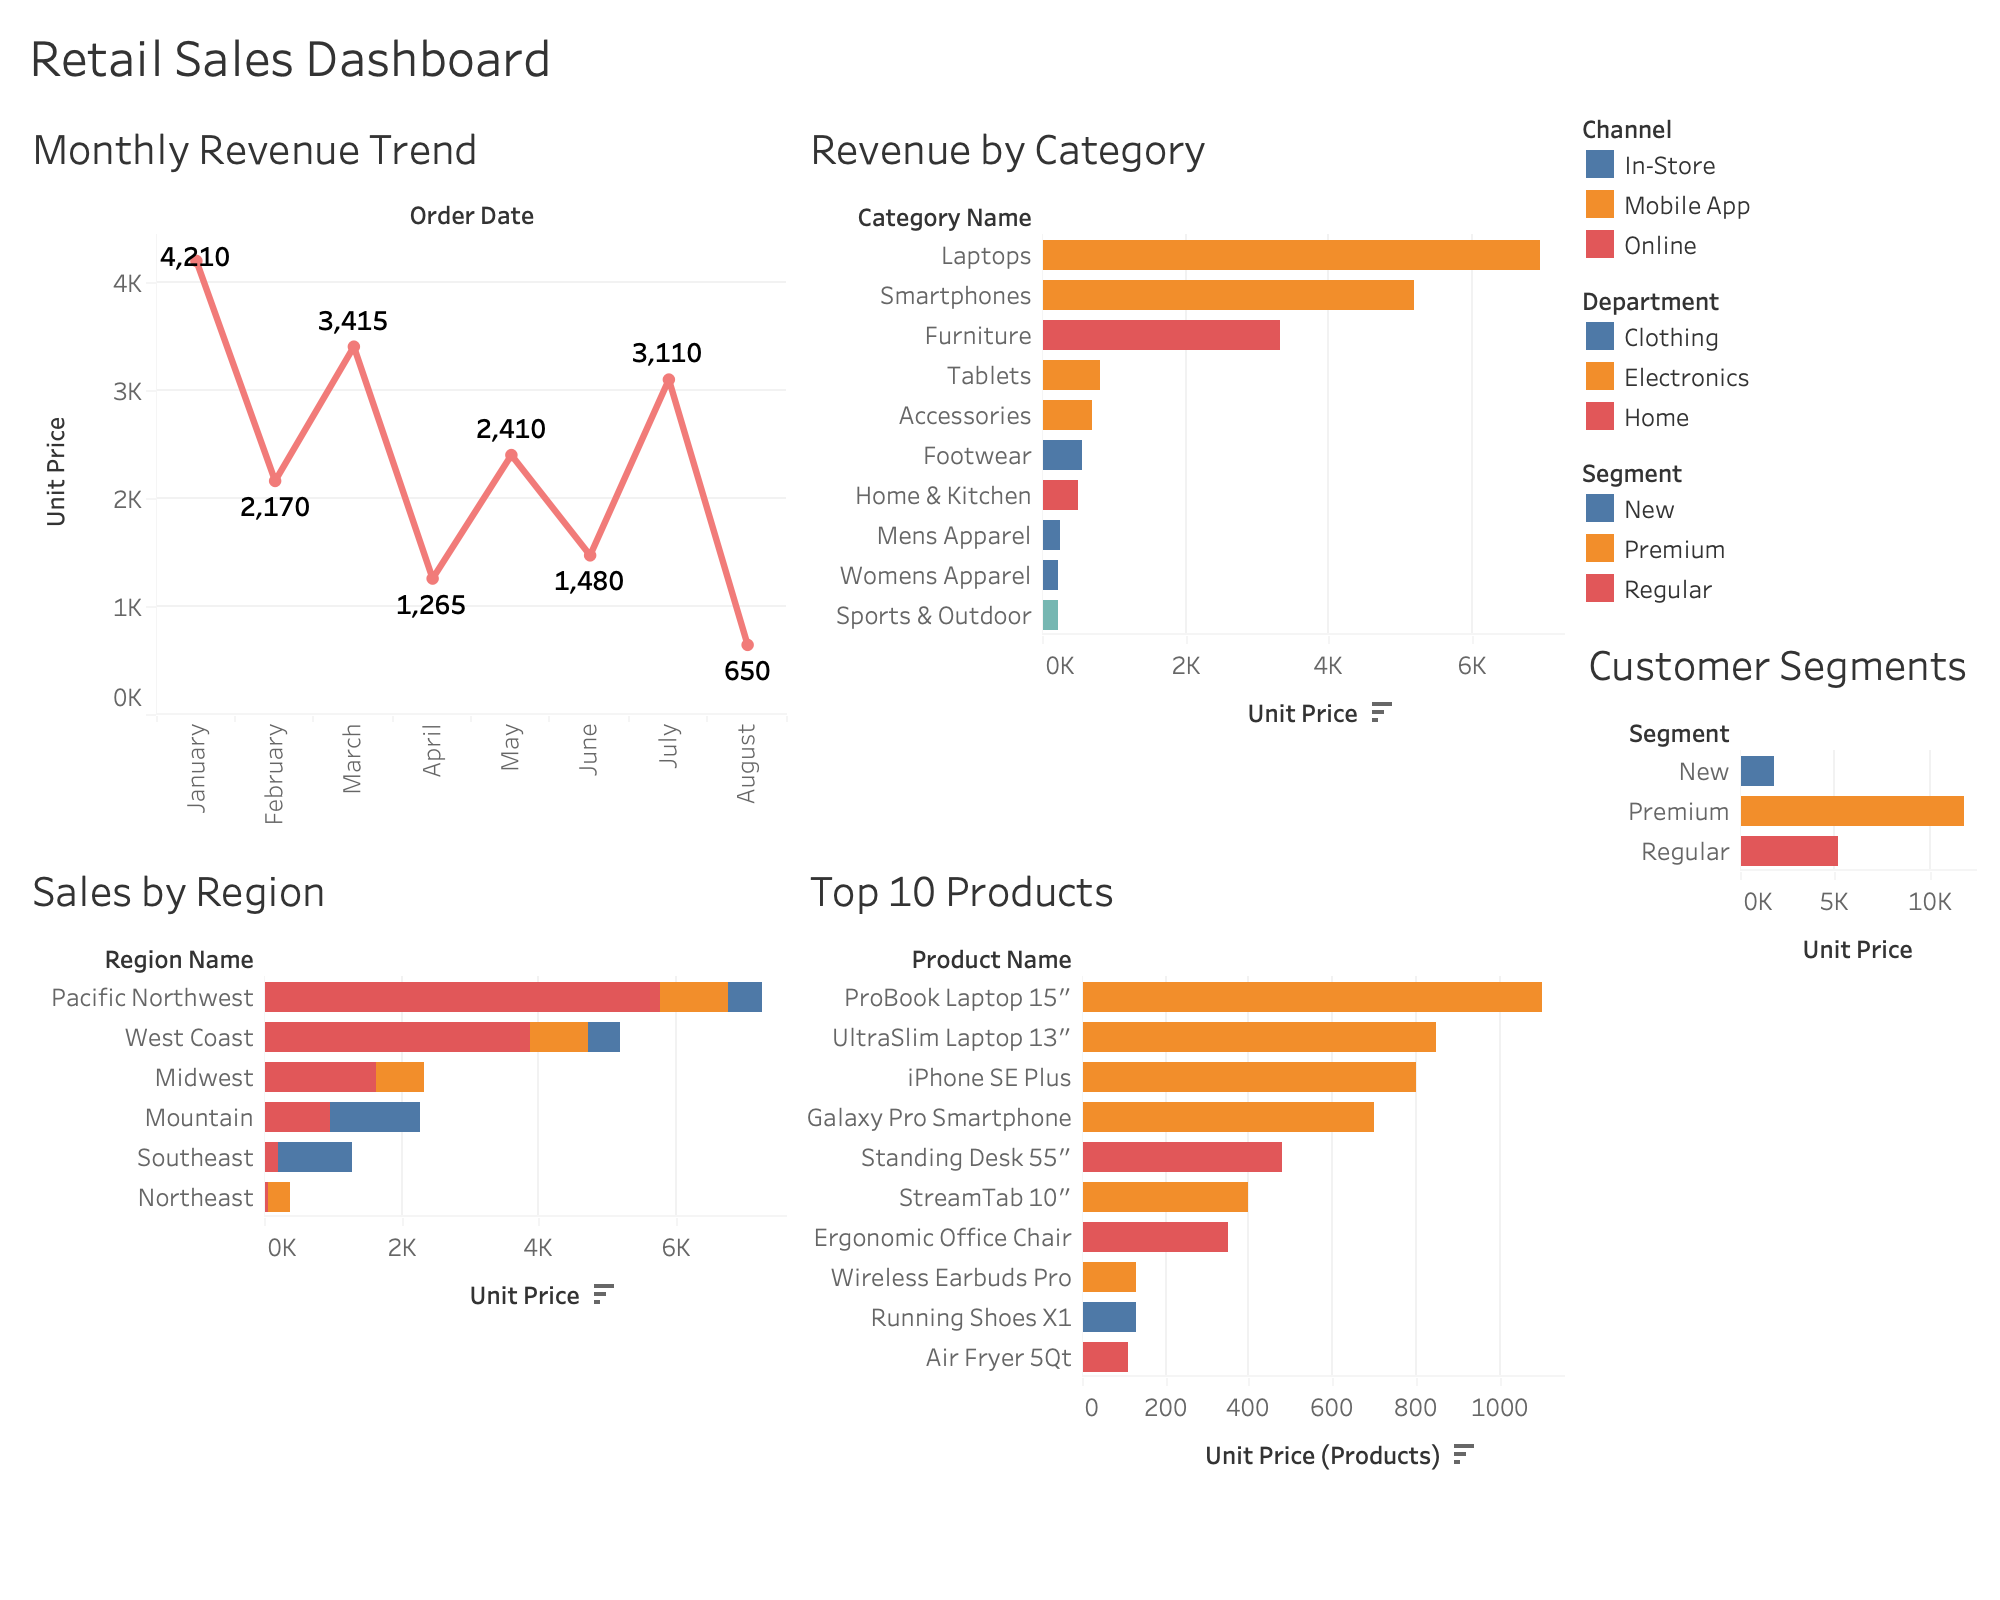

The page's visual inventory and layout, read from the dashboard file:
{"tool":"tableau","page":{"name":"Retail Sales Dashboard","canvas":[1000,800],"ordinal":0},"visuals":[{"type":"title","box":[8,8,984,42]},{"type":"worksheet","title":"Monthly Revenue Trend","mark":"Line","rows":["unit_price"],"cols":["order_date"],"box":[8,50,389,371]},{"type":"worksheet","title":"Revenue by Category","mark":"Automatic","rows":["category_name"],"cols":["unit_price"],"box":[397,50,389,371]},{"type":"legend","title":"Sales by Region","param":"[federated.18l9ju818h204o1furmgu1keye6n].[none:channel:nk]","box":[786,50,206,86]},{"type":"legend","title":"Top 10 Products","param":"[federated.18l9ju818h204o1furmgu1keye6n].[none:department:nk]","box":[786,136,206,86]},{"type":"legend","title":"Customer Segments","param":"[federated.18l9ju818h204o1furmgu1keye6n].[none:segment:nk]","box":[786,222,206,86]},{"type":"worksheet","title":"Customer Segments","mark":"Automatic","rows":["segment"],"cols":["unit_price"],"box":[786,308,206,186]},{"type":"worksheet","title":"Sales by Region","mark":"Automatic","rows":["region_name"],"cols":["unit_price"],"box":[8,421,389,371]},{"type":"worksheet","title":"Top 10 Products","mark":"Automatic","rows":["product_name"],"cols":["unit_price (products)"],"box":[397,421,389,371]}]}

Visuals, with their boxes in screenshot pixels (x1, y1, x2, y2), scaled from the page's 1000x800 canvas onto the 2000x1600 screenshot:
title: rect(16, 16, 1984, 100)
"Monthly Revenue Trend" worksheet (Line marks): rect(16, 100, 794, 842)
"Revenue by Category" worksheet: rect(794, 100, 1572, 842)
"Sales by Region" legend: rect(1572, 100, 1984, 272)
"Top 10 Products" legend: rect(1572, 272, 1984, 444)
"Customer Segments" legend: rect(1572, 444, 1984, 616)
"Customer Segments" worksheet: rect(1572, 616, 1984, 988)
"Sales by Region" worksheet: rect(16, 842, 794, 1584)
"Top 10 Products" worksheet: rect(794, 842, 1572, 1584)
